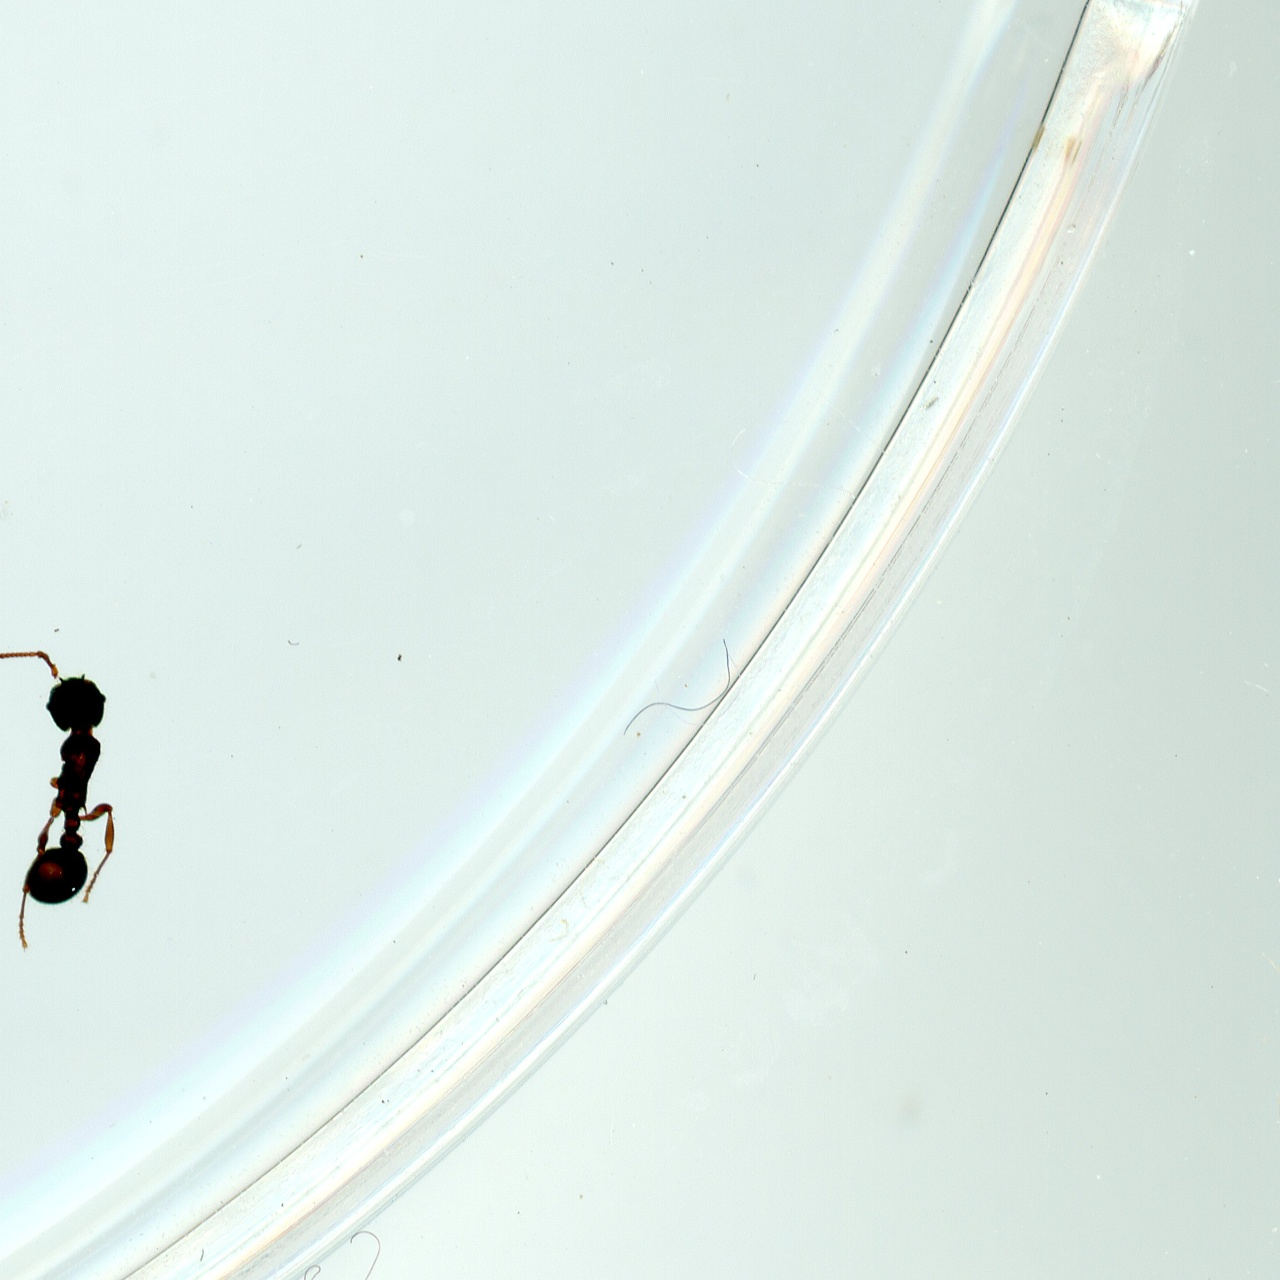arthropod: (0, 624, 130, 955)
